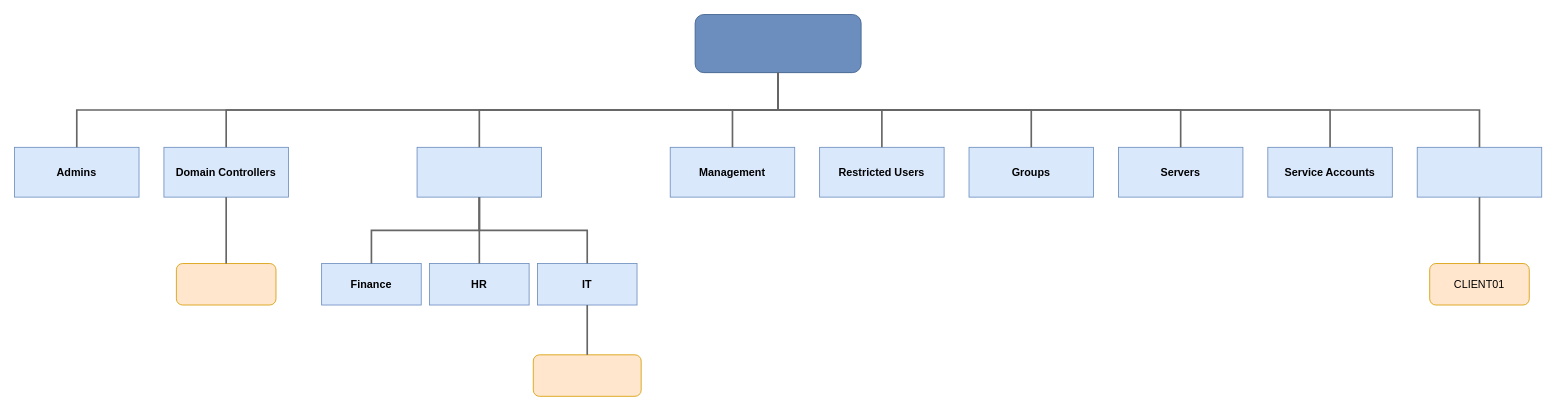
The diagram is 1556 pixels wide and 411 high, and some of its shapes have lost their labels. The shapes that lost their labels are listed below. From the top down, each one's centre as x and y in pixels, then its label:
the point at 777,43: home.lab
the point at 479,171: Employees
the point at 1479,171: Workstations
the point at 226,284: DC01
the point at 586,375: tomas.silva
